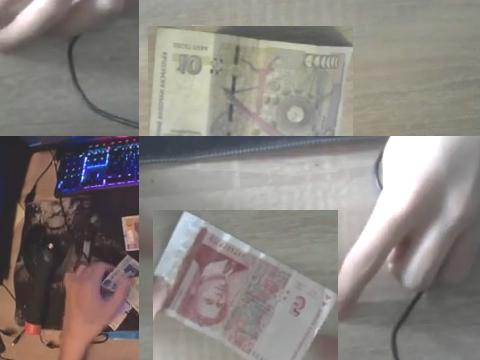10leva: (148, 26, 353, 136)
50leva: (121, 213, 139, 251)
5leva: (153, 210, 338, 360)
